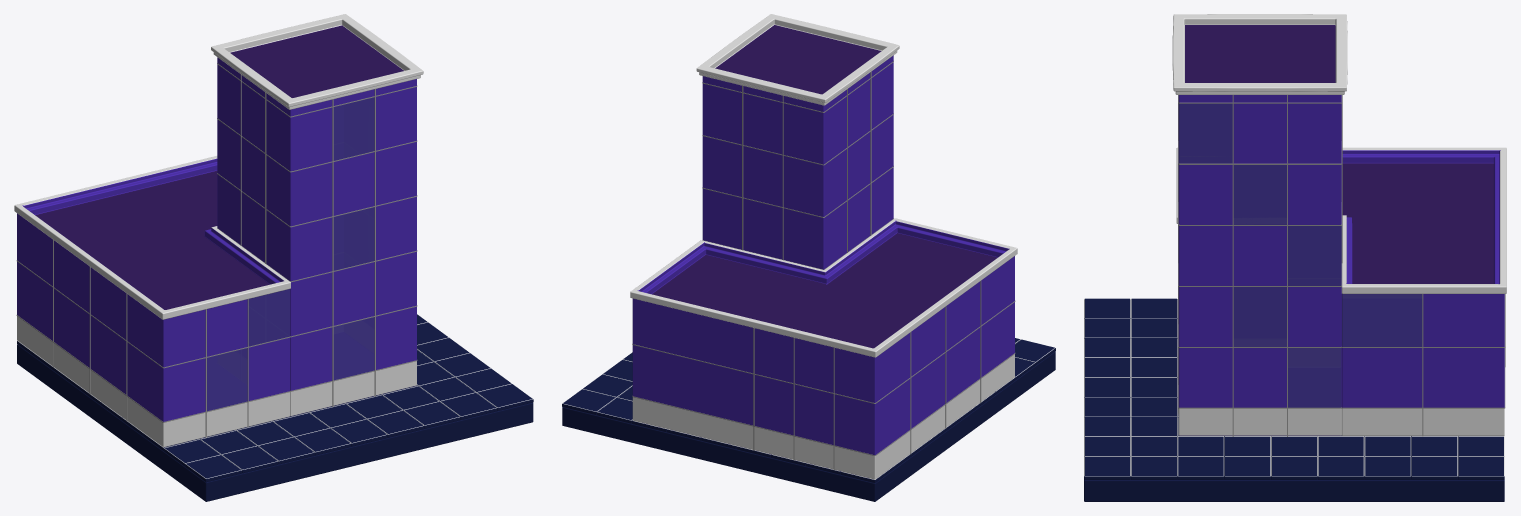
File: residential_1.glb
The picture shows the model from 3 angles, left to right: view 1: azimuth 30°, elevation 25°; view 2: azimuth 150°, elevation 25°; view 3: azimuth 270°, elevation 25°; orthographic projection. The views are drawn at different scales.
Parts seen in each view (by area): view 1: Plane.002, Plane.004, Plane.003, Plane.001, Plane.006, Plane.005; view 2: Plane.004, Plane.002, Plane.001, Plane.003, Plane.006, Plane.008, Plane.014; view 3: Plane.002, Plane.004, Plane.003, Plane.001, Plane.005, Plane.006.
Boxes of the visible parts, bbox=[...] form: Plane.002: bbox=[211, 14, 423, 416]; Plane.004: bbox=[14, 156, 290, 447]; Plane.003: bbox=[17, 314, 533, 482]; Plane.001: bbox=[17, 344, 533, 501]; Plane.006: bbox=[332, 89, 375, 406]; Plane.005: bbox=[240, 74, 266, 263]; Plane.004: bbox=[630, 218, 1017, 479]; Plane.002: bbox=[696, 14, 899, 269]; Plane.001: bbox=[562, 351, 1055, 501]; Plane.003: bbox=[562, 338, 1055, 482]; Plane.006: bbox=[742, 85, 783, 260]; Plane.008: bbox=[632, 353, 1015, 455]; Plane.014: bbox=[632, 300, 1015, 403]; Plane.002: bbox=[1172, 14, 1347, 435]; Plane.004: bbox=[1176, 147, 1506, 435]; Plane.003: bbox=[1084, 298, 1504, 479]; Plane.001: bbox=[1084, 479, 1504, 501]; Plane.005: bbox=[1232, 95, 1287, 436]; Plane.006: bbox=[1178, 95, 1342, 413].
Size of the model in its own units: 8.04 by 7.91 by 8.04.
